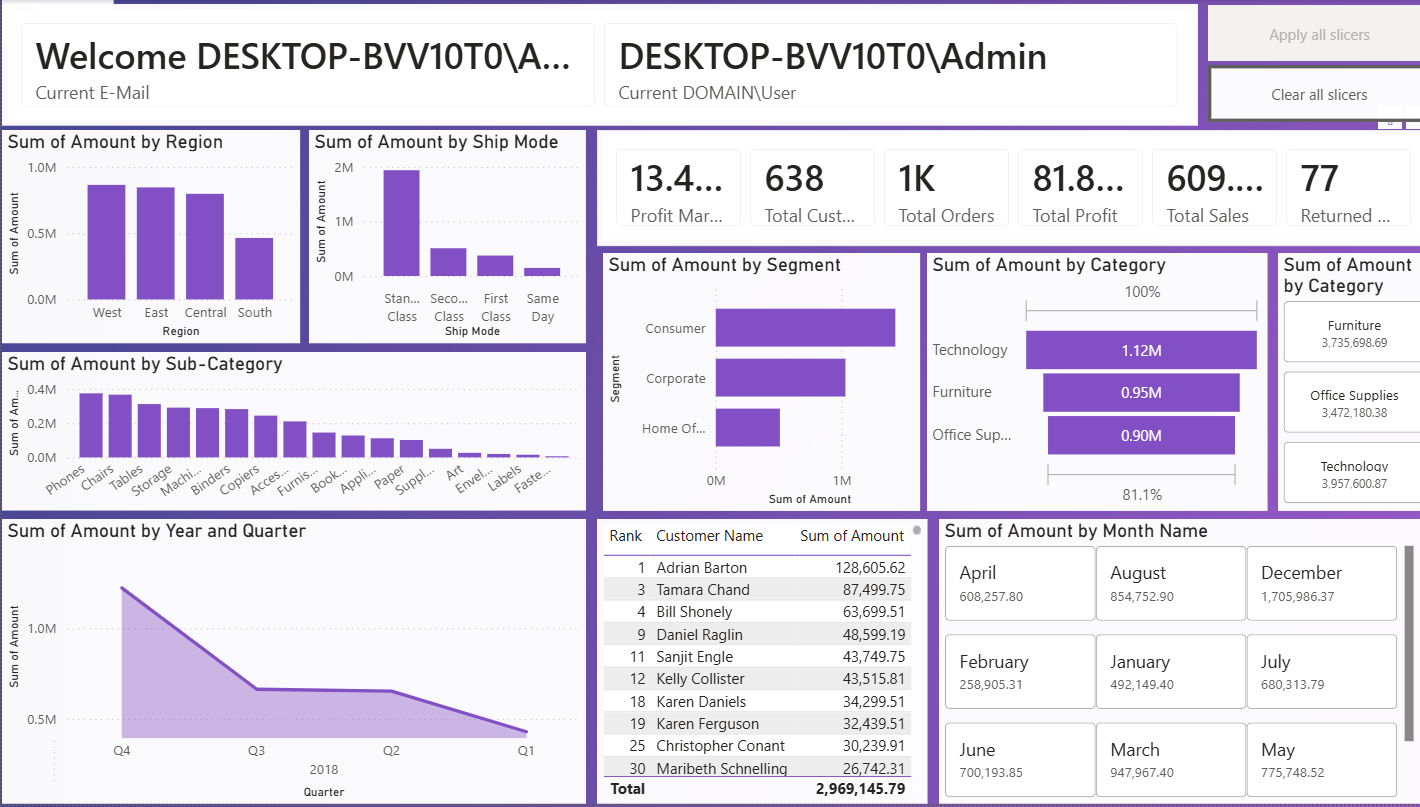

What the dashboard file says about the page in this screenshot:
{"tool":"powerbi","page":{"name":"Page 1","canvas":[1280,720],"ordinal":0},"visuals":[{"type":"cardVisual","fields":{"Data":["Orders.Profit Margin %","Orders.Total Customers","Orders.Total Orders","Orders.Total Profit","Orders.Total Sales","Returns.Returned Orders"]},"box":[532.8,116.4,746.9,103.9],"z":0},{"type":"barChart","fields":{"Y":["Sum(Orders.Amount)"],"Category":["Orders.Segment"]},"box":[538.2,226.6,283.9,231],"z":1000},{"type":"funnel","fields":{"Category":["Orders.Category"],"Y":["Sum(Orders.Amount)"]},"box":[828.4,226.6,305.4,231],"z":2000},{"type":"clusteredColumnChart","fields":{"Category":["Orders.Ship Mode"],"Y":["Sum(Orders.Amount)"]},"box":[274.9,116.4,248.1,190.7],"z":3000},{"type":"clusteredColumnChart","fields":{"Y":["Sum(Orders.Amount)"],"Category":["Orders.Region"]},"box":[0,116.4,266.9,190.7],"z":4000},{"type":"clusteredColumnChart","fields":{"Y":["Sum(Orders.Amount)"],"Category":["Orders.Sub-Category"]},"box":[0,315.2,523,142.4],"z":5000},{"type":"areaChart","fields":{"Category":["Date Table.Year Hierarchy.Year","Date Table.Year Hierarchy.Quarter","Date Table.Year Hierarchy.Month Name","Date Table.Year Hierarchy.Day Name"],"Y":["Sum(Orders.Amount)"]},"box":[0,464.8,523,255.2],"z":6000},{"type":"tableEx","fields":{"Values":["Orders.Rank","Orders.Customer Name","Sum(Orders.Amount)"]},"box":[532.8,464.8,295.5,255.2],"z":7000},{"type":"actionButton","box":[1080,4.5,199.7,50.1],"z":9000},{"type":"actionButton","box":[1080,58.2,199.7,51],"z":10000},{"type":"advancedSlicerVisual","fields":{"Label":["Sum(Orders.Amount)"],"Values":["Date Table.Month Name"]},"box":[839.1,464.8,430.7,255.2],"z":11000},{"type":"actionButton","box":[0,0,100,40],"z":12000},{"type":"advancedSlicerVisual","fields":{"Values":["Orders.Category"],"Label":["Sum(Orders.Amount)"]},"box":[1142.7,226.6,137,231],"z":13000},{"type":"cardVisual","fields":{"Data":["People.Current E-Mail","People.Current DOMAIN\\User"]},"box":[0,3.6,1071,109.3],"z":14000}]}

Visuals, with their boxes in screenshot pixels (x1, y1, x2, y2), scaled from the page's 1280x720 canvas onto the 1420x807 screenshot:
cardVisual - Orders.Profit Margin % x Orders.Total Customers: box=[591, 130, 1419, 247]
barChart - Sum(Orders.Amount) x Orders.Segment: box=[597, 254, 912, 513]
funnel - Orders.Category x Sum(Orders.Amount): box=[919, 254, 1258, 513]
clusteredColumnChart - Orders.Ship Mode x Sum(Orders.Amount): box=[305, 130, 580, 344]
clusteredColumnChart - Sum(Orders.Amount) x Orders.Region: box=[0, 130, 296, 344]
clusteredColumnChart - Sum(Orders.Amount) x Orders.Sub-Category: box=[0, 353, 580, 513]
areaChart - Date Table.Year Hierarchy.Year x Date Table.Year Hierarchy.Quarter: box=[0, 521, 580, 806]
tableEx - Orders.Rank x Orders.Customer Name: box=[591, 521, 919, 806]
actionButton: box=[1198, 5, 1419, 61]
actionButton: box=[1198, 65, 1419, 122]
advancedSlicerVisual - Sum(Orders.Amount) x Date Table.Month Name: box=[931, 521, 1409, 806]
actionButton: box=[0, 0, 111, 45]
advancedSlicerVisual - Orders.Category x Sum(Orders.Amount): box=[1268, 254, 1419, 513]
cardVisual - People.Current E-Mail x People.Current DOMAIN\User: box=[0, 4, 1188, 127]
